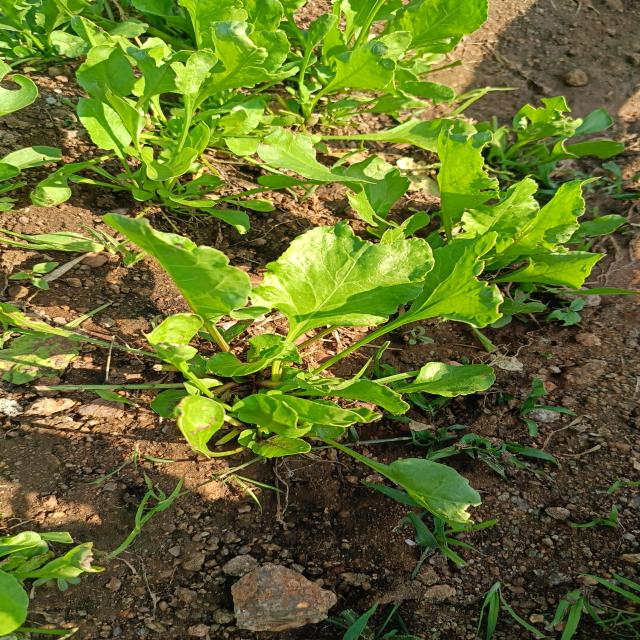leaves: (72, 212, 272, 379), (333, 222, 511, 395), (257, 214, 424, 389), (286, 427, 500, 535), (405, 119, 505, 282), (136, 309, 269, 419), (235, 126, 375, 197), (144, 380, 242, 463), (384, 350, 506, 407), (254, 386, 391, 436), (471, 252, 615, 299), (216, 426, 322, 472), (38, 156, 128, 207), (142, 151, 218, 199), (202, 349, 289, 389)
